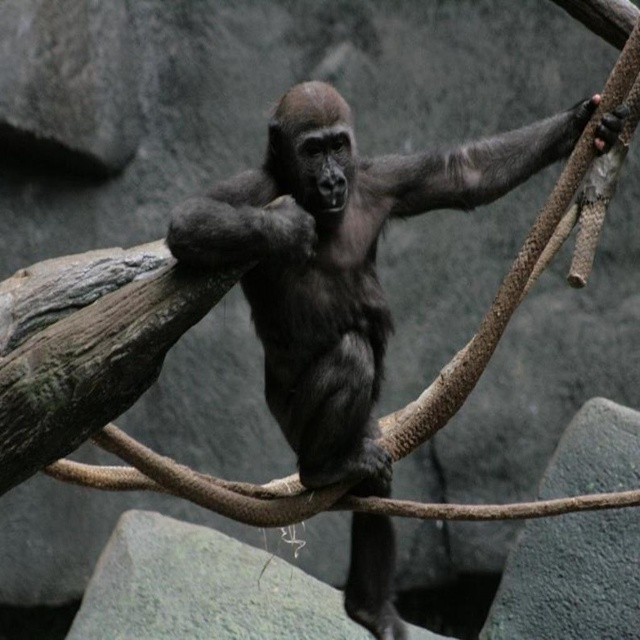Monkey: (164, 81, 630, 640)
